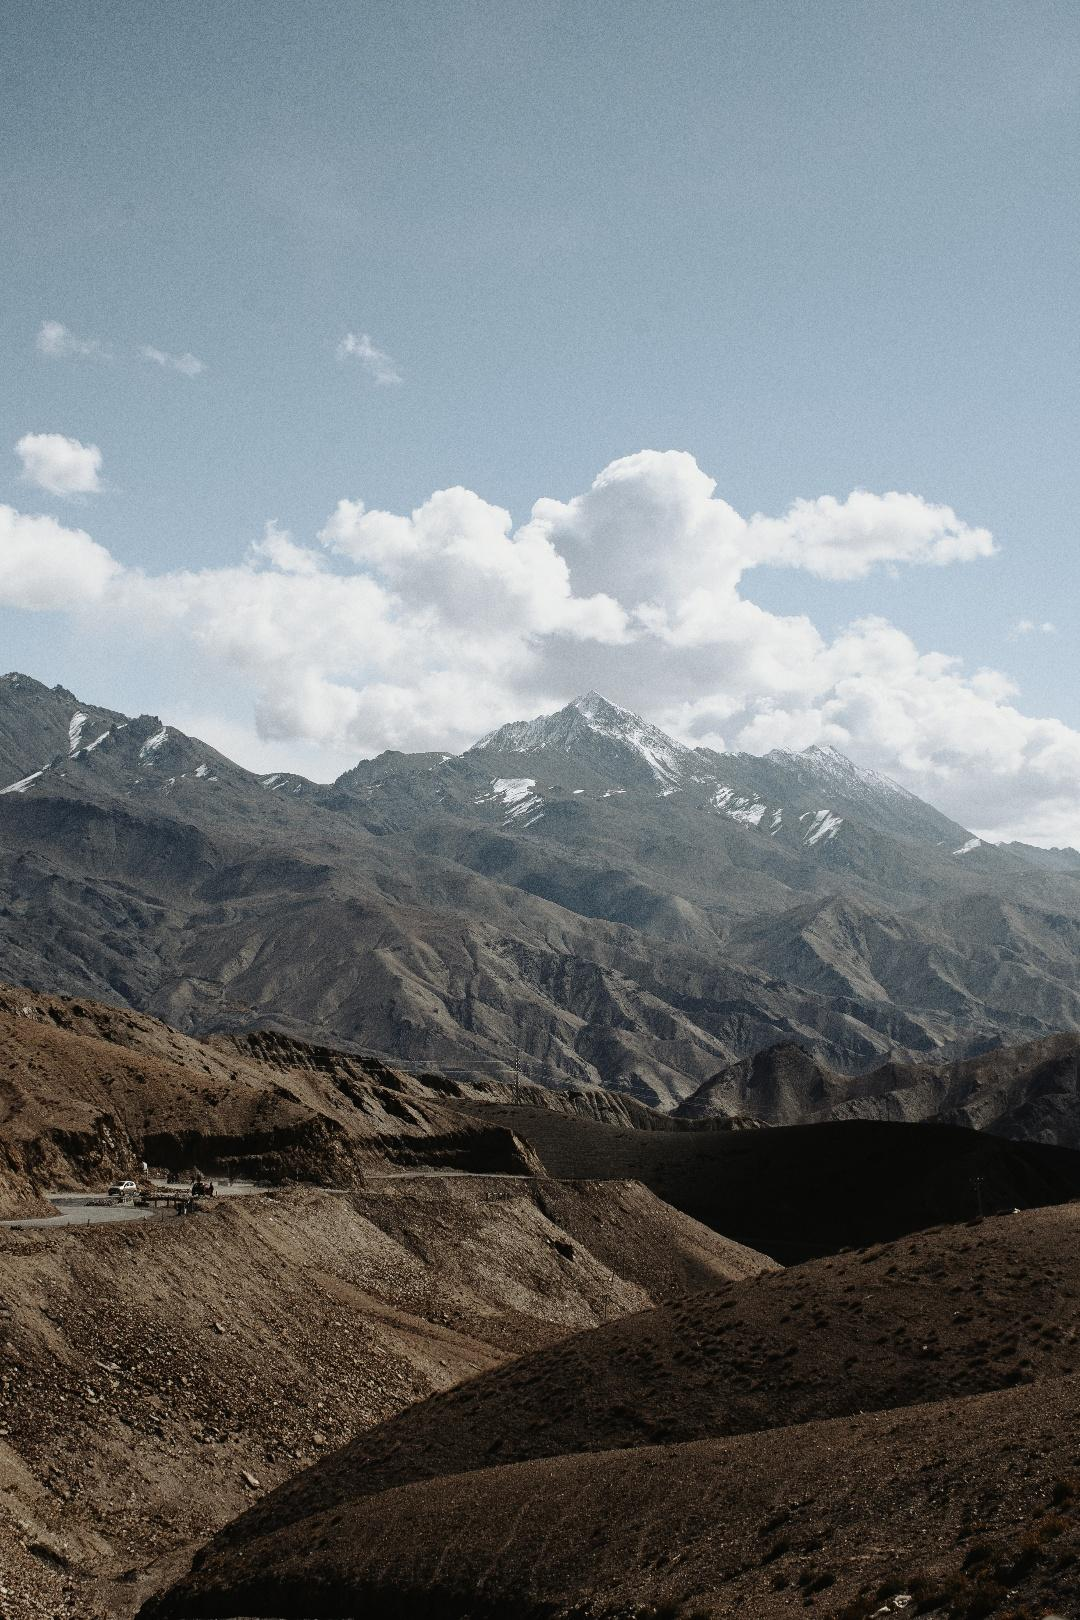plastic-bottles: (1006, 1608, 1080, 1620)
